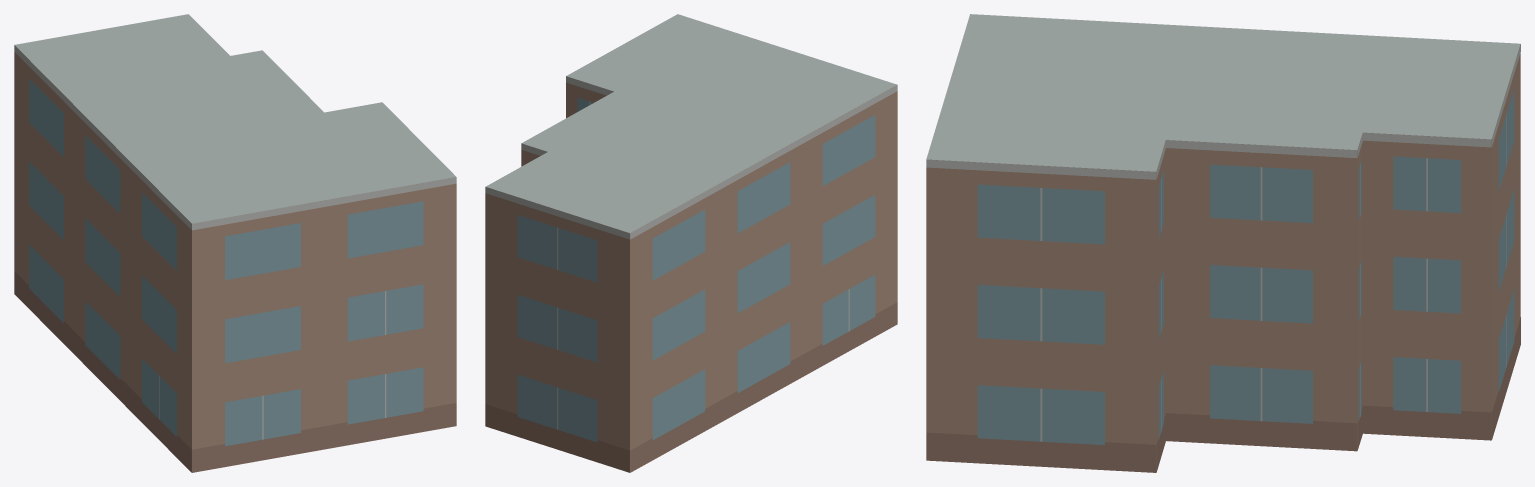
File: survey-upis-32798104.glb
3 renders of one model, left to right at view 1: azimuth 30°, elevation 25°; view 2: azimuth 150°, elevation 25°; view 3: azimuth 270°, elevation 25°, orthographic. The views are drawn at different scales.
Parts seen in each view (by area): view 1: survey-upis-32798104.tmp; view 2: survey-upis-32798104.tmp; view 3: survey-upis-32798104.tmp.
Part boxes in pixels (<box>): survey-upis-32798104.tmp: <box>14,14,456,472</box>; survey-upis-32798104.tmp: <box>485,14,897,472</box>; survey-upis-32798104.tmp: <box>926,14,1520,472</box>.
Size of the model in its own units: 10.3 by 9.15 by 16.39.
